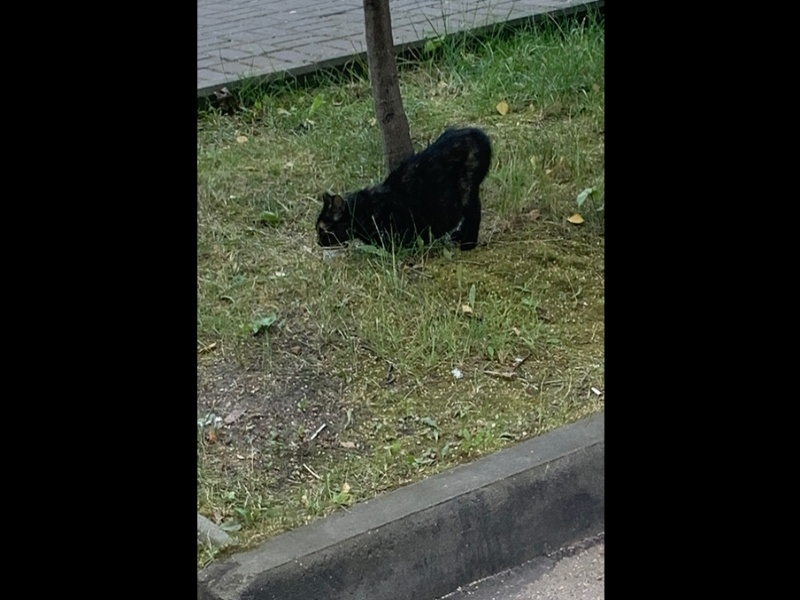cat: (314, 123, 492, 271)
